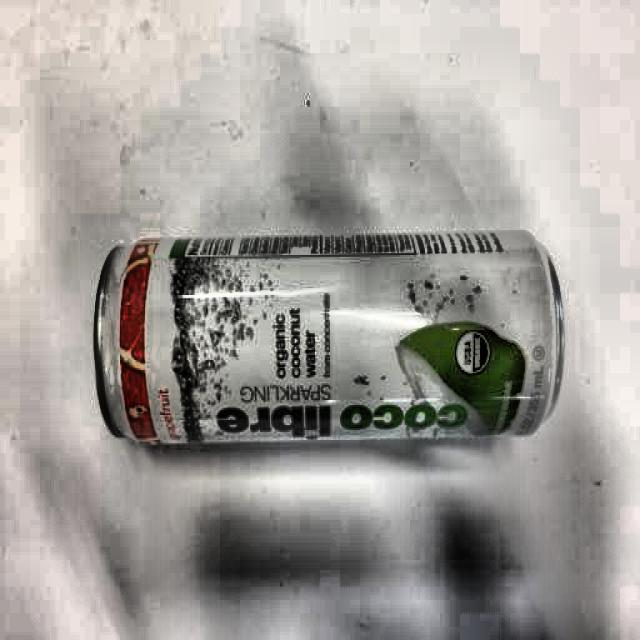metal: (90, 228, 567, 449)
